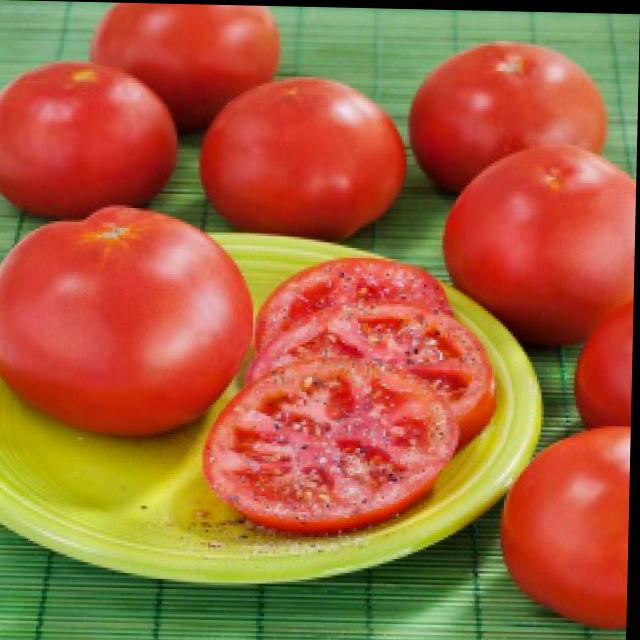tomato: (0, 207, 256, 440), (444, 140, 636, 344), (201, 77, 409, 242), (415, 37, 609, 199), (0, 62, 181, 222), (85, 2, 282, 137), (502, 424, 630, 628)
